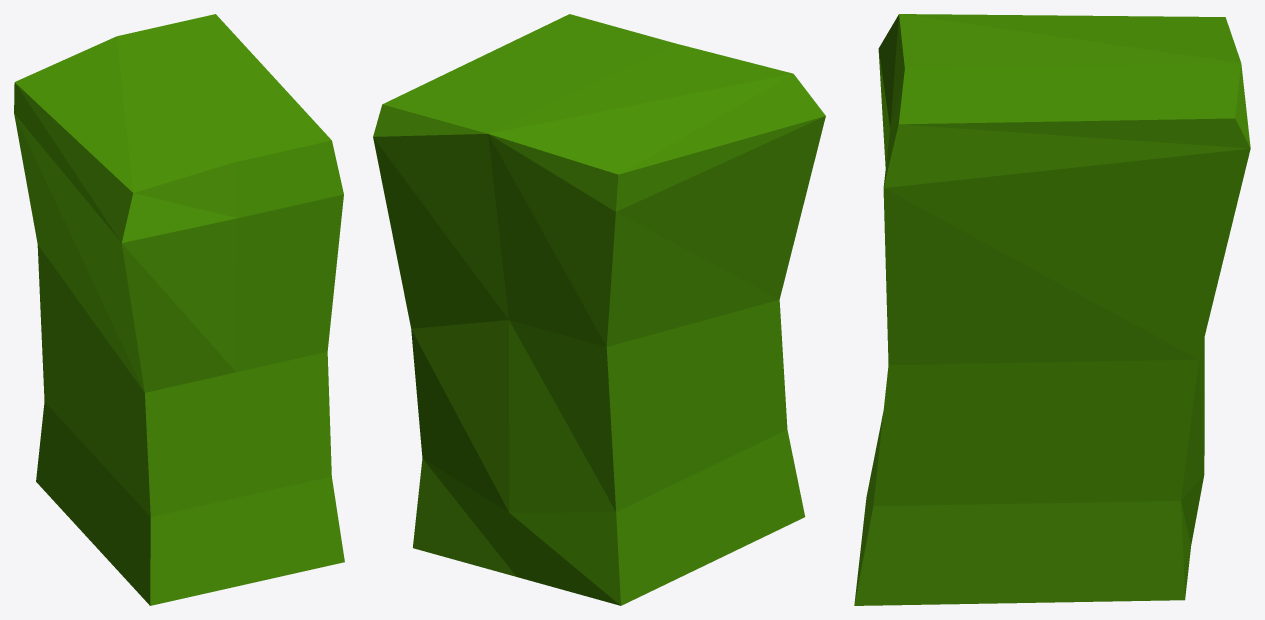
Rendered from Vegetation_Modular_New_Tree_Leaf_Bunch_Shrub_01.FBX.
3 views of the same model, side by side, from view 1: azimuth 30°, elevation 25°; view 2: azimuth 150°, elevation 25°; view 3: azimuth 270°, elevation 25° (orthographic). The views are drawn at different scales.
Parts seen in each view (by area): view 1: Vegetation_Modular_New_Tree_Leaf_Bunch_Shrub_01; view 2: Vegetation_Modular_New_Tree_Leaf_Bunch_Shrub_01; view 3: Vegetation_Modular_New_Tree_Leaf_Bunch_Shrub_01.
Boxes of the visible parts, x1,y1,x2,y2 form: Vegetation_Modular_New_Tree_Leaf_Bunch_Shrub_01: (14, 14, 344, 605); Vegetation_Modular_New_Tree_Leaf_Bunch_Shrub_01: (373, 14, 825, 605); Vegetation_Modular_New_Tree_Leaf_Bunch_Shrub_01: (854, 14, 1250, 605).
Size of the model in its own units: 1019 by 1688 by 1197.
